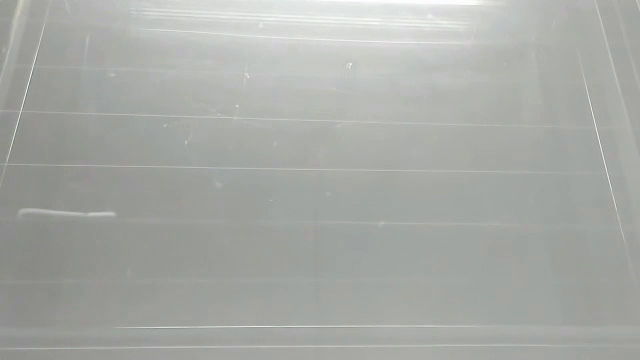alpha: (11, 204, 117, 226)
